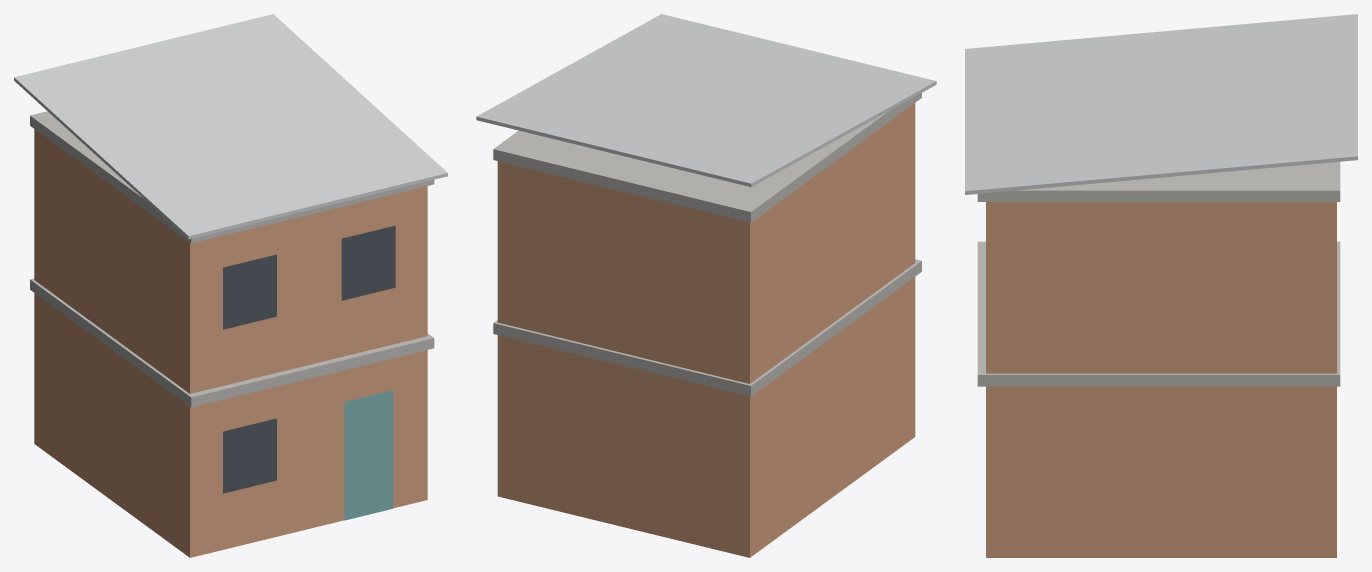
3 views of the same model, side by side, from view 1: azimuth 30°, elevation 25°; view 2: azimuth 150°, elevation 25°; view 3: azimuth 270°, elevation 25° (orthographic). The views are drawn at different scales.
Parts seen in each view (by area): view 1: fv_h10.lod1; view 2: fv_h10.lod1; view 3: fv_h10.lod1.
Part boxes in pixels (x1,y1,x2,y2): fv_h10.lod1: [14, 14, 447, 557]; fv_h10.lod1: [476, 14, 936, 557]; fv_h10.lod1: [965, 14, 1357, 557].
Size of the model in its own units: 4.8 by 6.41 by 5.6.
